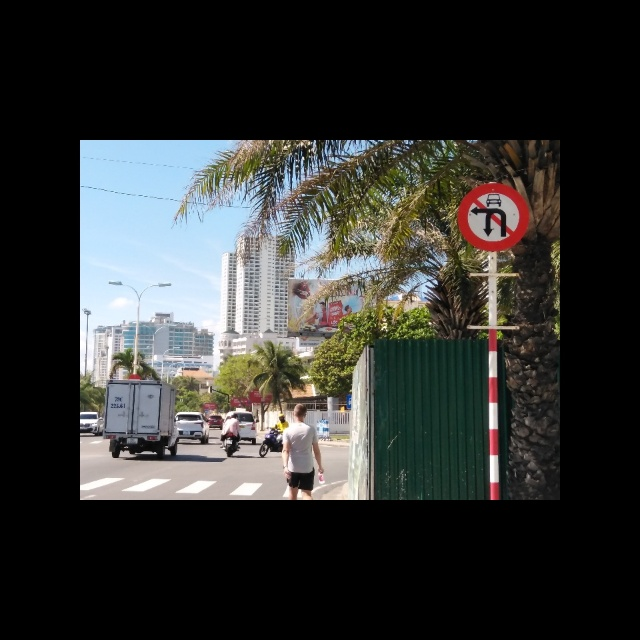Cấm xe ô tô quay đầu và rẽ trái: (456, 182, 529, 250)
